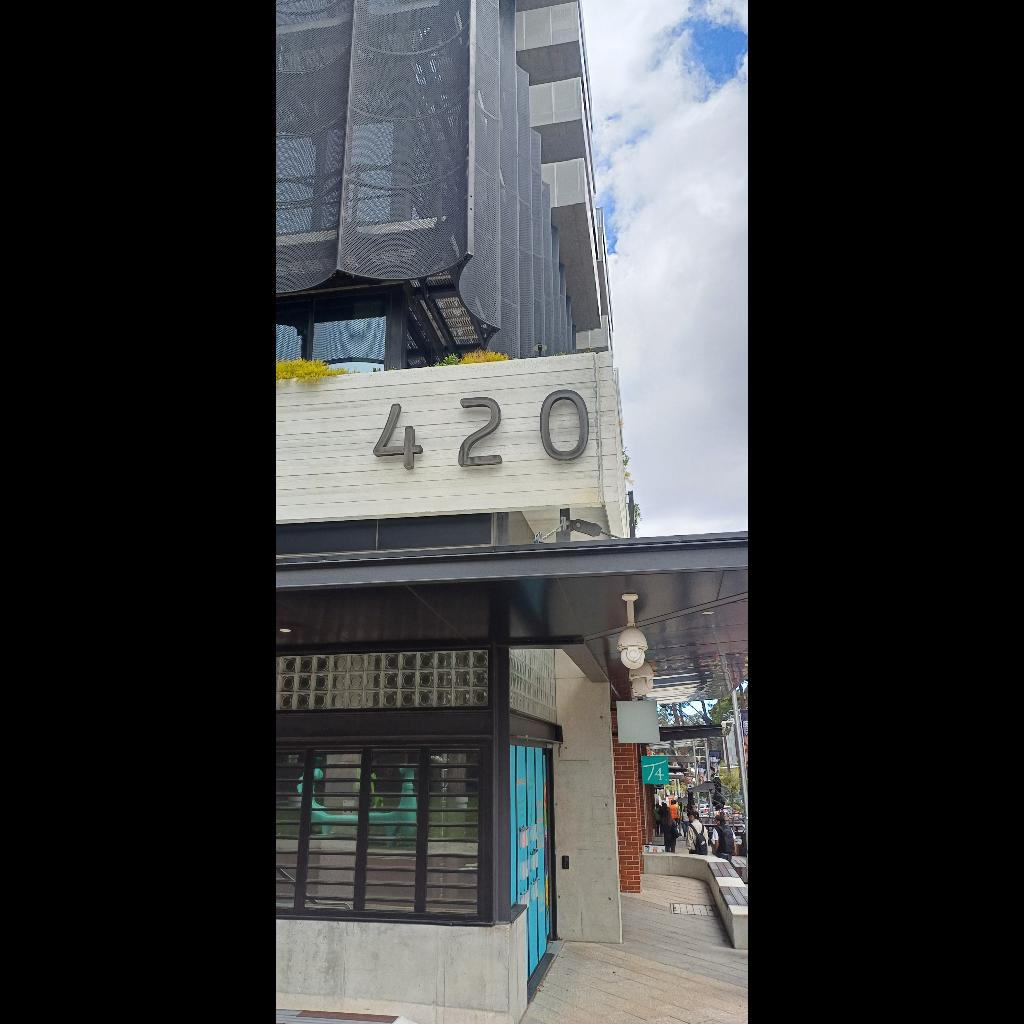BuildingCodes: (367, 383, 597, 491)
